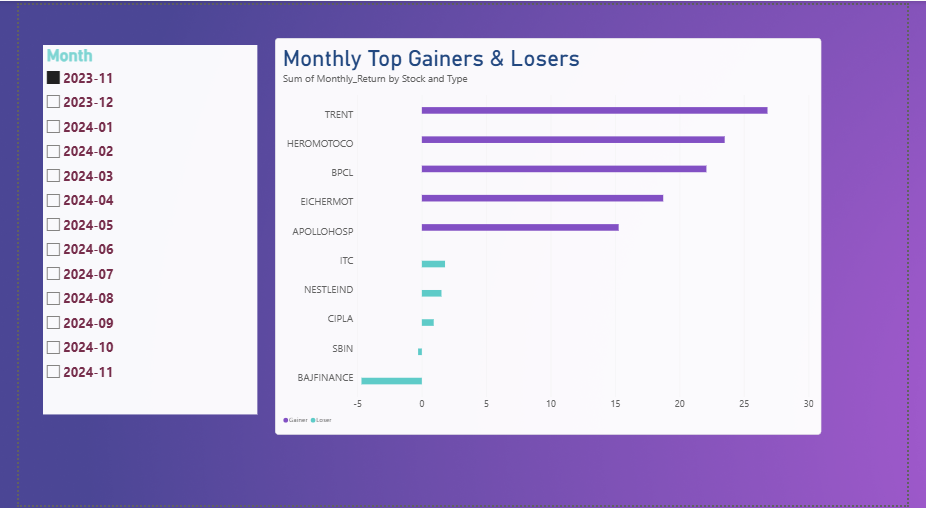

The dashboard page shown, as its layout file describes it:
{"tool":"powerbi","page":{"name":"Page 1","canvas":[1920,1080],"ordinal":0},"visuals":[{"type":"clusteredBarChart","title":"Monthly Top Gainers & Losers","fields":{"Category":["stock_analysis monthly_gainers_losers.Stock"],"Series":["stock_analysis monthly_gainers_losers.Type"],"Y":["Sum(stock_analysis monthly_gainers_losers.Monthly_Return)"]},"box":[376.8,137.7,910.1,565.2],"z":0},{"type":"slicer","fields":{"Values":["stock_analysis monthly_gainers_losers.Month"]},"box":[18.8,137.7,333.3,565.2],"z":1000},{"type":"textbox","box":[111.6,0,1117.4,52.2],"z":1001},{"type":"textbox","box":[137.7,68.1,1040.6,59.4],"z":1002}]}

Visuals, with their boxes in screenshot pixels (x1, y1, x2, y2), scaled from the page's 1920x1080 canvas onto the 926x508 screenshot:
"Monthly Top Gainers & Losers" clusteredBarChart: [x1=182, y1=65, x2=621, y2=331]
slicer - stock_analysis monthly_gainers_losers.Month: [x1=9, y1=65, x2=170, y2=331]
textbox: [x1=54, y1=0, x2=593, y2=25]
textbox: [x1=66, y1=32, x2=568, y2=60]
